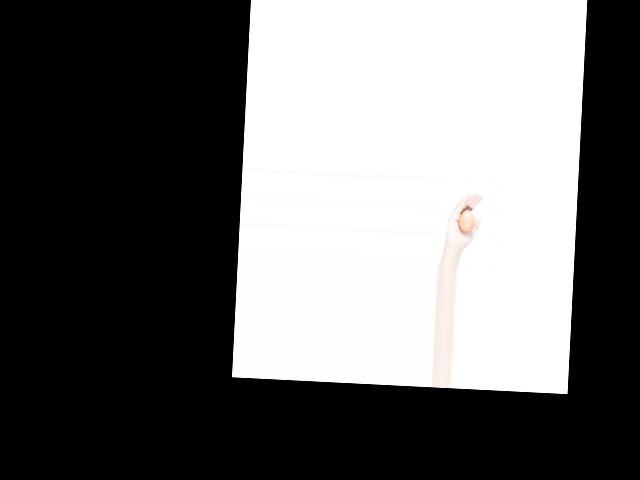egg: (458, 210, 475, 232)
